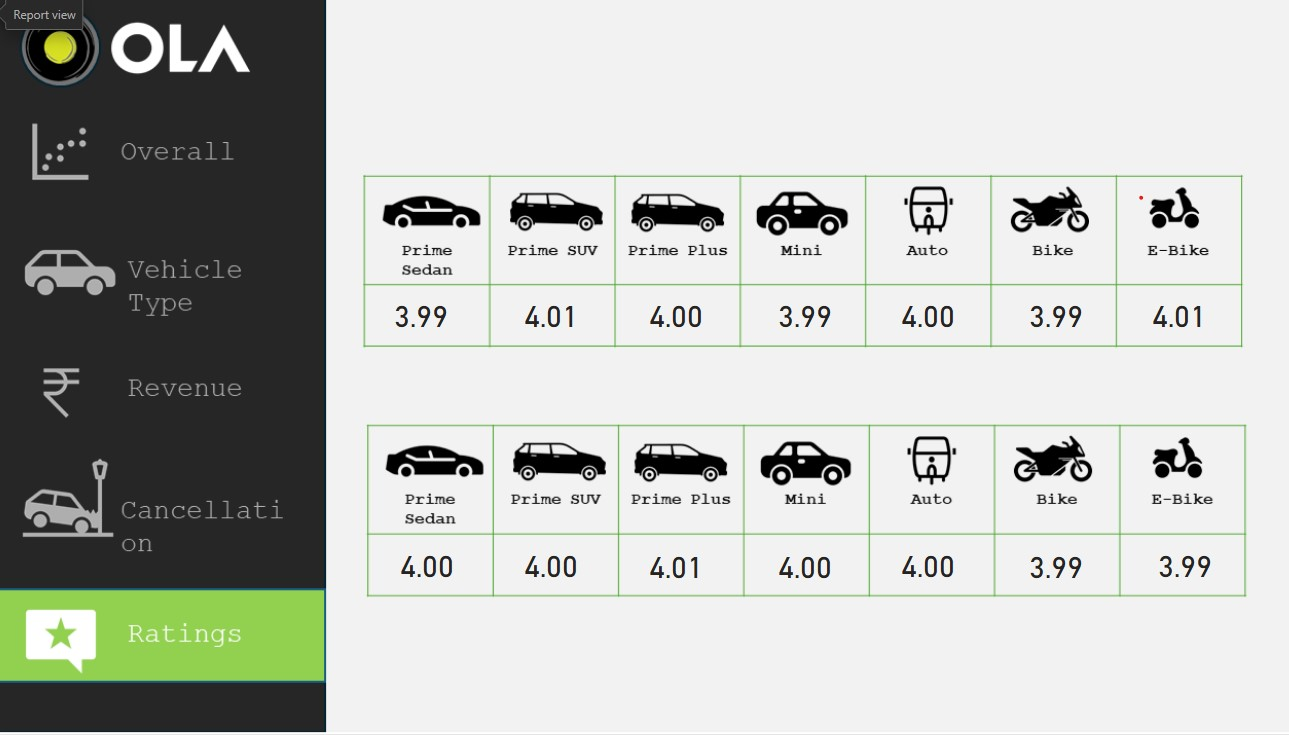

Layout of this report page (visuals, bound fields, positions):
{"tool":"powerbi","page":{"name":"RATINGS","canvas":[1280,720],"ordinal":4},"visuals":[{"type":"actionButton","box":[0,230,322.7,91.8],"z":0},{"type":"actionButton","box":[0.9,340.4,322.7,91.6],"z":1000},{"type":"actionButton","box":[0,451.6,322.7,97.8],"z":2000},{"type":"actionButton","box":[0,107.6,322.7,97.8],"z":3000},{"type":"card","fields":{"Values":["Avg(Booking.Driver_Ratings)"]},"box":[371.6,293.7,89.5,36],"z":3001},{"type":"card","fields":{"Values":["Avg(Booking.Driver_Ratings)"]},"box":[498,293.7,89.5,36],"z":3002},{"type":"card","fields":{"Values":["Avg(Booking.Driver_Ratings)"]},"box":[619.6,293.7,89.5,36],"z":3003},{"type":"card","fields":{"Values":["Avg(Booking.Driver_Ratings)"]},"box":[745,293.7,89.5,36],"z":3004},{"type":"card","fields":{"Values":["Avg(Booking.Driver_Ratings)"]},"box":[864.7,293.7,89.5,36],"z":3005},{"type":"card","fields":{"Values":["Avg(Booking.Driver_Ratings)"]},"box":[989.2,293.7,89.5,36],"z":3006},{"type":"card","fields":{"Values":["Avg(Booking.Driver_Ratings)"]},"box":[1108.8,293.7,89.5,36],"z":3007},{"type":"card","fields":{"Values":["Avg(Booking.Customer_Rating)"]},"box":[383.2,533,77.8,44.7],"z":3008},{"type":"card","fields":{"Values":["Avg(Booking.Customer_Rating)"]},"box":[503.8,533,77.8,44.7],"z":3009},{"type":"card","fields":{"Values":["Avg(Booking.Customer_Rating)"]},"box":[625.4,533,77.8,46.7],"z":3010},{"type":"card","fields":{"Values":["Avg(Booking.Customer_Rating)"]},"box":[750.9,533,77.8,46.7],"z":3011},{"type":"card","fields":{"Values":["Avg(Booking.Customer_Rating)"]},"box":[870.5,532,77.8,46.7],"z":3012},{"type":"card","fields":{"Values":["Avg(Booking.Customer_Rating)"]},"box":[995,533,77.8,46.7],"z":3013},{"type":"card","fields":{"Values":["Avg(Booking.Customer_Rating)"]},"box":[1120.5,532,77.8,46.7],"z":3014}]}

Visuals, with their boxes on the page's 1280x720 design canvas (x1, y1, x2, y2). These are canvas units, not pixel positions in the 1289x735 screenshot, which may show the page scaled, cropped or inside an application window:
actionButton: {"x1": 0, "y1": 230, "x2": 323, "y2": 322}
actionButton: {"x1": 1, "y1": 340, "x2": 324, "y2": 432}
actionButton: {"x1": 0, "y1": 452, "x2": 323, "y2": 549}
actionButton: {"x1": 0, "y1": 108, "x2": 323, "y2": 205}
card - Avg(Booking.Driver_Ratings): {"x1": 372, "y1": 294, "x2": 461, "y2": 330}
card - Avg(Booking.Driver_Ratings): {"x1": 498, "y1": 294, "x2": 588, "y2": 330}
card - Avg(Booking.Driver_Ratings): {"x1": 620, "y1": 294, "x2": 709, "y2": 330}
card - Avg(Booking.Driver_Ratings): {"x1": 745, "y1": 294, "x2": 834, "y2": 330}
card - Avg(Booking.Driver_Ratings): {"x1": 865, "y1": 294, "x2": 954, "y2": 330}
card - Avg(Booking.Driver_Ratings): {"x1": 989, "y1": 294, "x2": 1079, "y2": 330}
card - Avg(Booking.Driver_Ratings): {"x1": 1109, "y1": 294, "x2": 1198, "y2": 330}
card - Avg(Booking.Customer_Rating): {"x1": 383, "y1": 533, "x2": 461, "y2": 578}
card - Avg(Booking.Customer_Rating): {"x1": 504, "y1": 533, "x2": 582, "y2": 578}
card - Avg(Booking.Customer_Rating): {"x1": 625, "y1": 533, "x2": 703, "y2": 580}
card - Avg(Booking.Customer_Rating): {"x1": 751, "y1": 533, "x2": 829, "y2": 580}
card - Avg(Booking.Customer_Rating): {"x1": 870, "y1": 532, "x2": 948, "y2": 579}
card - Avg(Booking.Customer_Rating): {"x1": 995, "y1": 533, "x2": 1073, "y2": 580}
card - Avg(Booking.Customer_Rating): {"x1": 1120, "y1": 532, "x2": 1198, "y2": 579}
